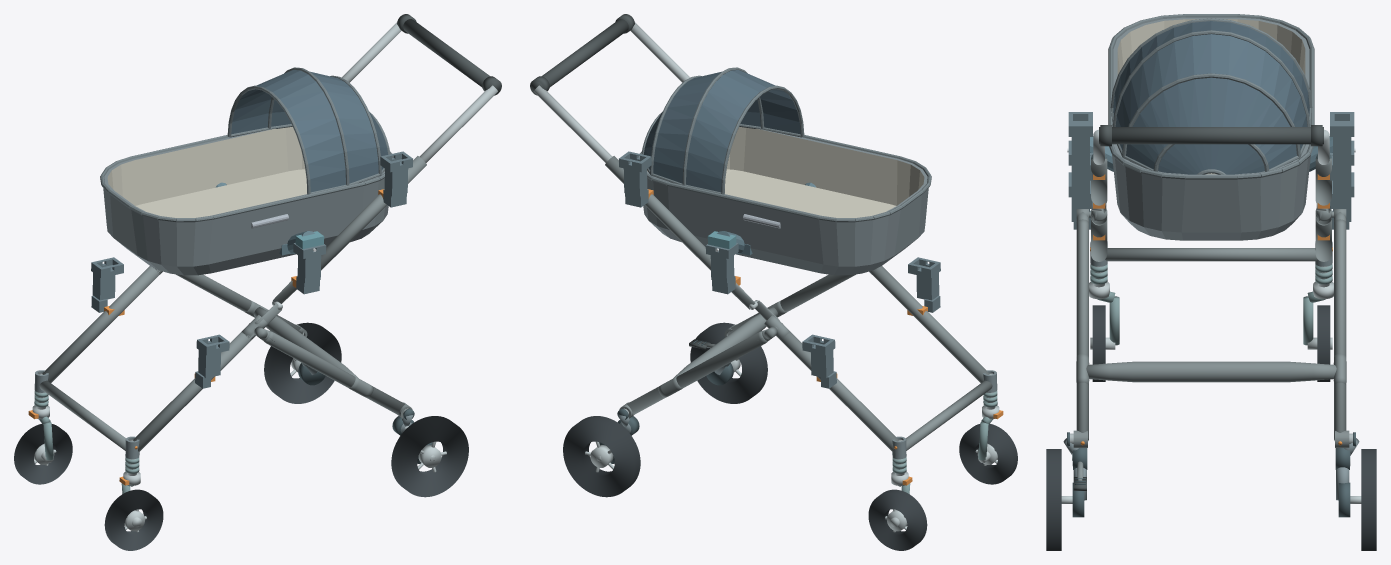
The model's file is S06_w550_state1_wheel_S.glb.
The picture shows the model from 3 angles, left to right: view 1: azimuth 30°, elevation 25°; view 2: azimuth 150°, elevation 25°; view 3: azimuth 270°, elevation 25°; orthographic projection. The views are drawn at different scales.
Visible parts, largest first — view 1: S06_Cabin, RL_tire.002, RR_tire.002, FL_tire.002, FR_tire.002, main_lower_1.003, V46_rear_leg_-1.003, main_lower_-1.003, round_handle.002, main_upper_-1.003, Universal_Cabin_Receiver_H_-1, Universal_Cabin_Receiver_L_-1 (+8 smaller); view 2: S06_Cabin, RR_tire.002, RL_tire.002, FR_tire.002, FL_tire.002, main_lower_-1.003, V46_rear_leg_1.003, main_lower_1.003, round_handle.002, main_upper_1.003, Universal_Cabin_Receiver_H_1, Universal_Cabin_Receiver_L_1 (+8 smaller); view 3: S06_Cabin, V46_rearbar.003, round_handle.002, front_fixed_round_tube.002, V46_rear_leg_1.003, V46_rear_leg_-1.003, RL_tire.002, RR_tire.002, Universal_Cabin_Receiver_H_1, Universal_Cabin_Receiver_H_-1, FL_tire.002, FR_tire.002 (+10 smaller).
Part boxes in pixels (x1,y1,x2,y2): S06_Cabin: [100, 67, 393, 275]; RL_tire.002: [391, 416, 468, 497]; RR_tire.002: [264, 322, 341, 403]; FL_tire.002: [104, 489, 163, 550]; FR_tire.002: [14, 424, 72, 484]; main_lower_1.003: [42, 266, 161, 382]; V46_rear_leg_-1.003: [264, 331, 404, 414]; main_lower_-1.003: [133, 332, 254, 451]; round_handle.002: [403, 19, 500, 93]; main_upper_-1.003: [296, 156, 426, 277]; Universal_Cabin_Receiver_H_-1: [380, 151, 412, 207]; Universal_Cabin_Receiver_L_-1: [195, 334, 229, 388]; S06_Cabin: [638, 67, 931, 275]; RR_tire.002: [563, 416, 640, 497]; RL_tire.002: [690, 322, 767, 403]; FR_tire.002: [868, 489, 927, 550]; FL_tire.002: [959, 424, 1017, 484]; main_lower_-1.003: [870, 266, 989, 382]; V46_rear_leg_1.003: [627, 331, 767, 414]; main_lower_1.003: [777, 332, 898, 451]; round_handle.002: [531, 19, 628, 93]; main_upper_1.003: [605, 156, 735, 277]; Universal_Cabin_Receiver_H_1: [619, 151, 651, 207]; Universal_Cabin_Receiver_L_1: [802, 334, 836, 388]; S06_Cabin: [1108, 14, 1314, 240]; V46_rearbar.003: [1086, 361, 1336, 382]; round_handle.002: [1099, 127, 1323, 144]; front_fixed_round_tube.002: [1105, 248, 1317, 261]; V46_rear_leg_1.003: [1334, 219, 1346, 440]; V46_rear_leg_-1.003: [1076, 219, 1088, 440]; RL_tire.002: [1046, 449, 1061, 550]; RR_tire.002: [1361, 449, 1376, 550]; Universal_Cabin_Receiver_H_1: [1330, 112, 1354, 180]; Universal_Cabin_Receiver_H_-1: [1068, 112, 1092, 180]; FL_tire.002: [1092, 305, 1105, 381]; FR_tire.002: [1317, 305, 1330, 381].
Bounding box in the file's own units: 1.11 × 1.04 × 0.6471.
